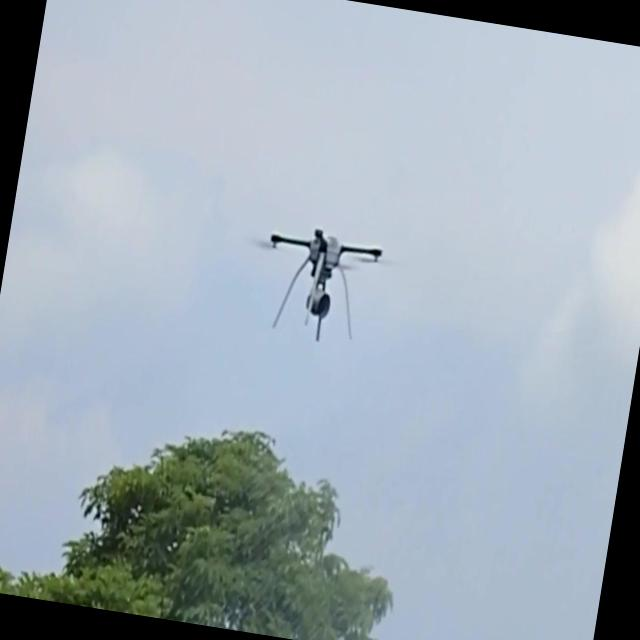drone: (254, 218, 386, 350)
